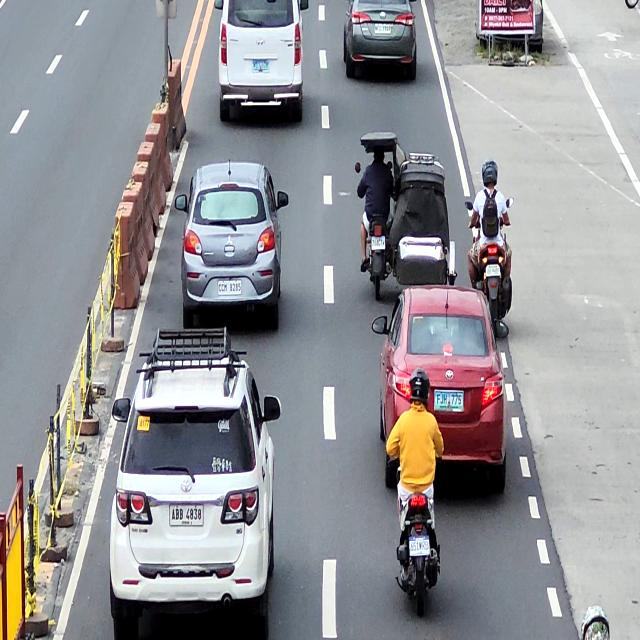Car: (108, 328, 281, 640), (371, 284, 508, 498), (175, 163, 289, 331), (213, 0, 308, 121), (343, 0, 418, 80)
License-Plate: (170, 503, 204, 528), (433, 390, 464, 412), (217, 280, 242, 296), (409, 537, 430, 556), (251, 60, 269, 74), (371, 235, 385, 250), (373, 23, 392, 34), (486, 263, 500, 277)
Motorcycle: (392, 442, 446, 618), (465, 196, 514, 337)
Tricycle: (355, 131, 459, 303)
